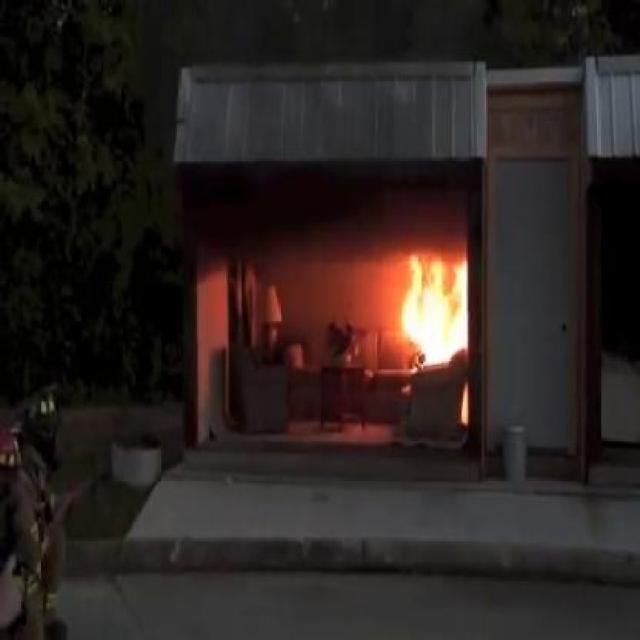fire: (396, 254, 470, 354)
smoke: (202, 163, 390, 249)
